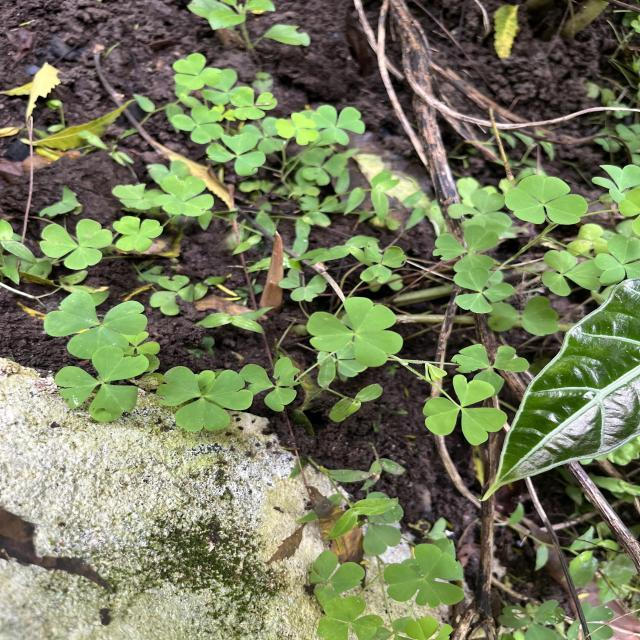Oxalis corniculata: (303, 295, 405, 368), (54, 344, 149, 422), (156, 365, 255, 433), (422, 373, 507, 446), (44, 288, 150, 344), (382, 542, 466, 608), (503, 173, 591, 226), (40, 217, 114, 270), (452, 265, 518, 315), (538, 249, 602, 297), (316, 595, 384, 640), (308, 550, 366, 602), (205, 131, 268, 177), (432, 224, 501, 265), (154, 174, 216, 218), (450, 341, 530, 374), (593, 233, 640, 285), (170, 106, 225, 144), (112, 215, 164, 253), (171, 53, 223, 90), (275, 112, 321, 146)
